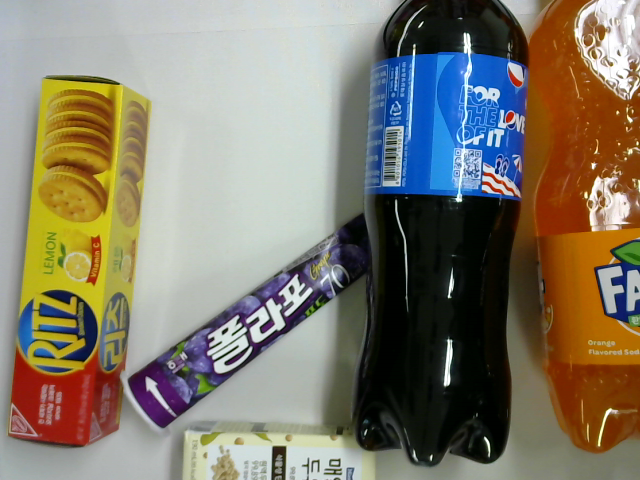99.89_Soymilk: (175, 419, 386, 480)
Hwanta_Orange_1.5L: (521, 1, 640, 461)
Pepsi_Cola_1.5L: (359, 1, 535, 462)
Polapo_Grape: (115, 198, 396, 445)
Ritz_Remon_96g: (6, 68, 156, 452)
